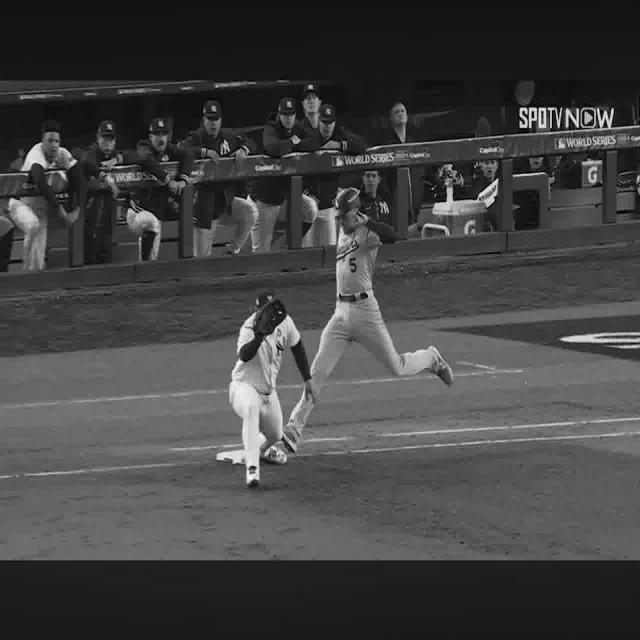base: (216, 450, 245, 465)
baseball: (338, 311, 345, 323)
baseball_glove: (254, 298, 286, 335)
shoe: (429, 345, 454, 385), (260, 445, 288, 465), (282, 427, 298, 453), (247, 467, 260, 485)
